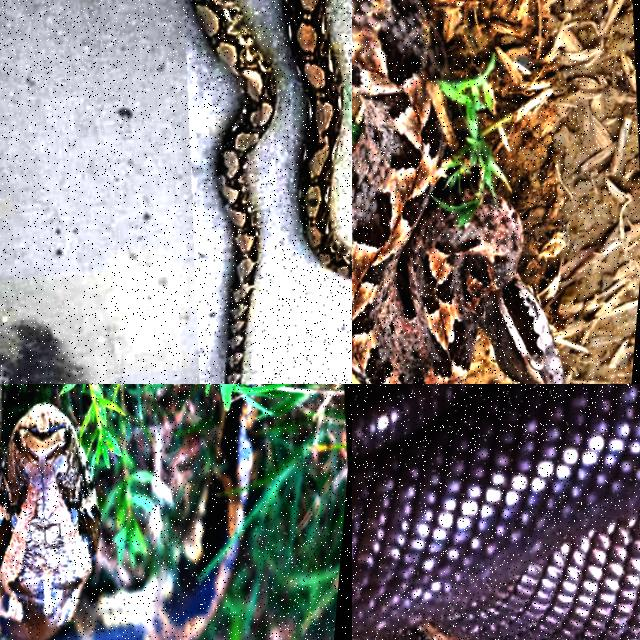Calloselasma rhodostoma: (352, 0, 564, 383)
Malayopython reticulatus: (193, 0, 276, 383)
Naja kaouthia: (352, 384, 639, 639)
Python bivittatus: (0, 399, 256, 639)
snake: (352, 0, 564, 383), (352, 384, 639, 639), (0, 399, 256, 639), (193, 0, 276, 383)
